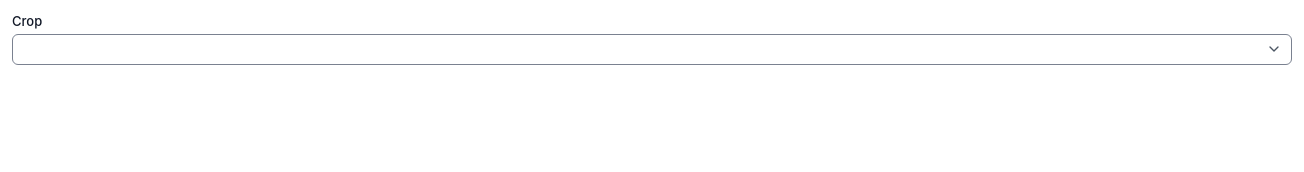
Test: Combobox › filters as you type, matching either name case-insensitively
In the dropdown labelled "Crop": (652, 49) [12,34,1292,65], type "GEHU"
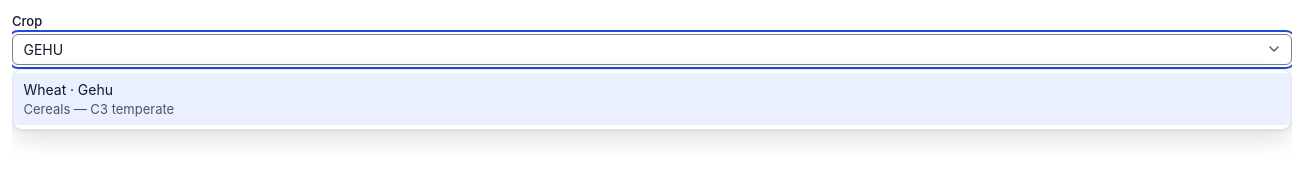
Expected: the number of options is 1, [13,73,1291,125]
